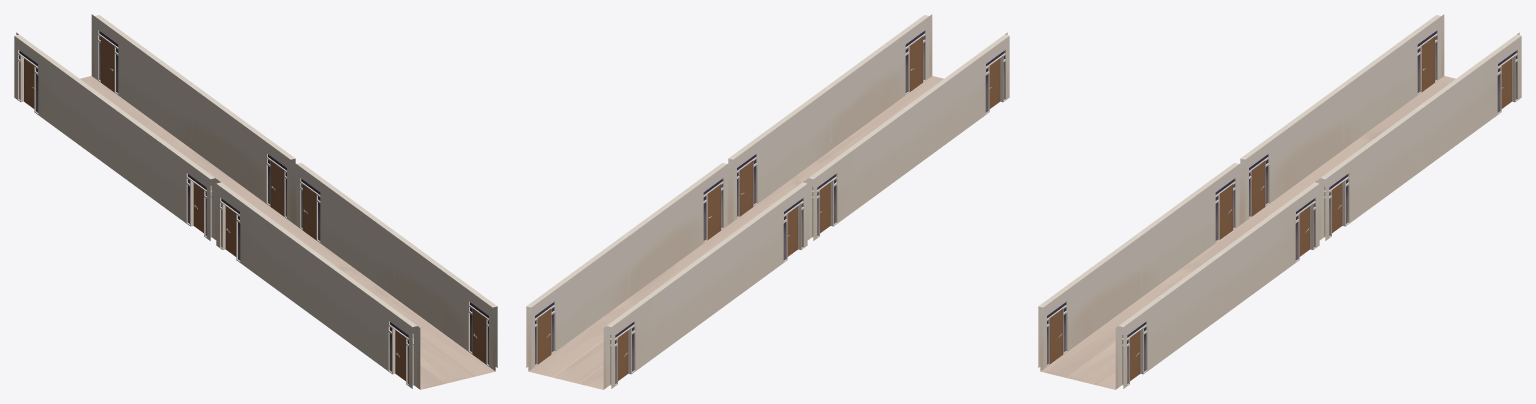
The model's file is corridor4.fbx.
3 renders of one model, left to right at view 1: azimuth 30°, elevation 25°; view 2: azimuth 150°, elevation 25°; view 3: azimuth 330°, elevation 25°, orthographic.
Visible parts, largest first — view 1: wall003.013, wall003.016, wall003.015, wall003.014, Plane.004, door.018, door.020, door.019, Cube.017, Cube.010, Cube.009, door.022 (+1 smaller); view 2: wall003.016, wall003.013, wall003.014, wall003.015, Plane.004, door.019, Cube.017, door.018, door.020, Cube.009, Cube.010, door.022 (+1 smaller); view 3: wall003.015, wall003.014, wall003.013, wall003.016, Plane.004, door.023, door.022, Cube.009, Cube.010, door.018, door.019, door.020 (+1 smaller).
Boxes of the visible parts, <box> form: wall003.013: <box>216,180,420,389</box>; wall003.016: <box>14,32,218,240</box>; wall003.015: <box>293,162,497,371</box>; wall003.014: <box>91,14,295,223</box>; Plane.004: <box>80,76,494,389</box>; door.018: <box>472,308,486,364</box>; door.020: <box>270,161,284,216</box>; door.019: <box>101,36,114,91</box>; Cube.017: <box>303,184,316,239</box>; Cube.010: <box>225,206,236,256</box>; Cube.009: <box>395,330,405,380</box>; door.022: <box>24,58,34,108</box>; wall003.016: <box>603,180,807,389</box>; wall003.013: <box>805,32,1009,240</box>; wall003.014: <box>526,162,730,371</box>; wall003.015: <box>728,14,932,223</box>; Plane.004: <box>529,76,943,389</box>; door.019: <box>537,308,551,364</box>; Cube.017: <box>739,161,753,216</box>; door.018: <box>909,36,922,91</box>; door.020: <box>707,184,720,239</box>; Cube.009: <box>989,58,1000,108</box>; Cube.010: <box>820,182,830,233</box>; door.022: <box>618,330,628,380</box>; wall003.015: <box>1115,180,1319,389</box>; wall003.014: <box>1317,32,1521,240</box>; wall003.013: <box>1038,162,1242,371</box>; wall003.016: <box>1240,14,1444,223</box>; Plane.004: <box>1041,76,1455,389</box>; door.023: <box>1251,161,1265,216</box>; door.022: <box>1421,36,1434,91</box>; Cube.009: <box>1049,309,1062,364</box>; Cube.010: <box>1219,184,1232,239</box>; door.018: <box>1130,330,1140,380</box>; door.019: <box>1501,58,1511,108</box>; door.020: <box>1332,183,1342,232</box>.
Bounding box in the file's own units: 170 × 118 × 1400.
Materials: 3 (3 with a texture image).
